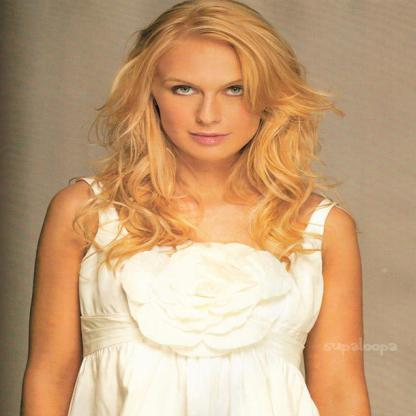long-hair: (77, 161, 353, 216)
